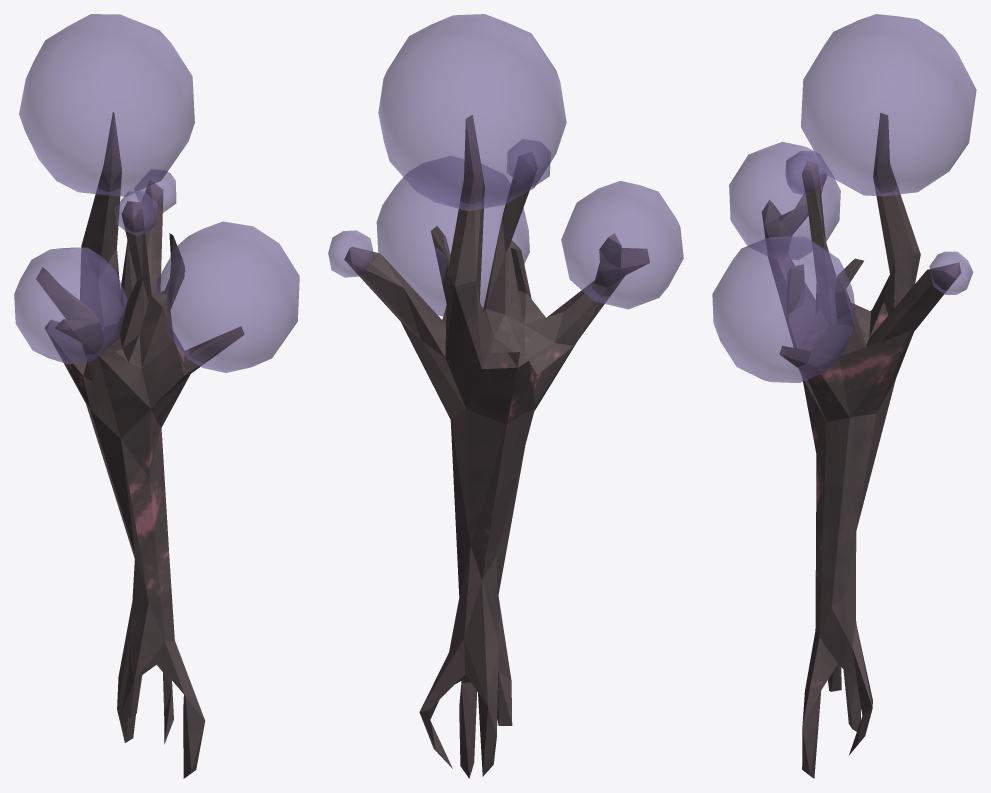
The model's file is tree1_lod0.glb.
3 renders of one model, left to right at view 1: azimuth 30°, elevation 25°; view 2: azimuth 150°, elevation 25°; view 3: azimuth 270°, elevation 25°, orthographic. The views are drawn at different scales.
Parts seen in each view (by area): view 1: Tree1; view 2: Tree1; view 3: Tree1.
Part boxes in pixels (box(x1,y1,x2,y2)): Tree1: box(14, 14, 299, 778); Tree1: box(328, 14, 683, 778); Tree1: box(712, 14, 976, 778).
Bounding box in the file's own units: 6.33 × 16.61 × 5.39.
Materials: 2 (1 with a texture image).
